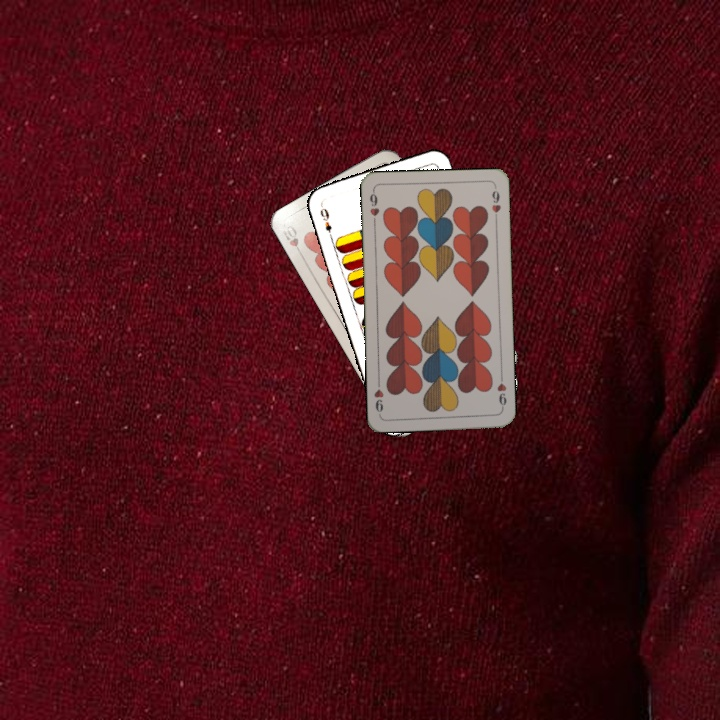E9: (316, 201, 335, 241)
H10: (277, 220, 306, 260)
H9: (366, 187, 382, 227), (493, 372, 509, 412)
